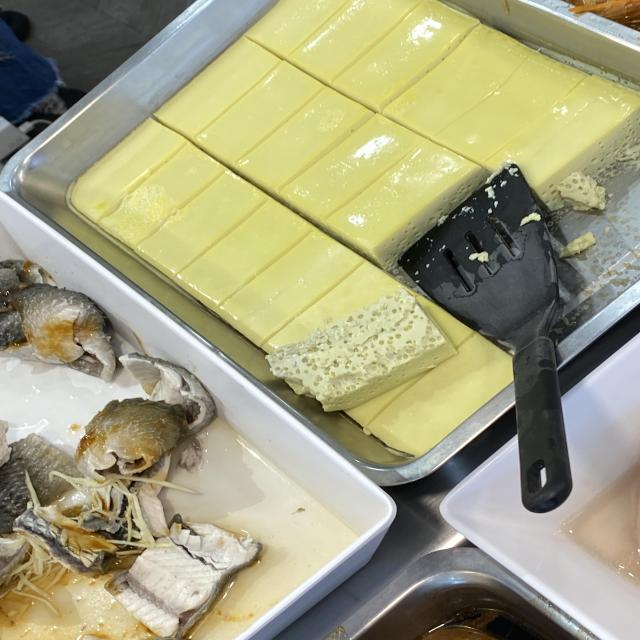steamed egg: (168, 102, 394, 285)
